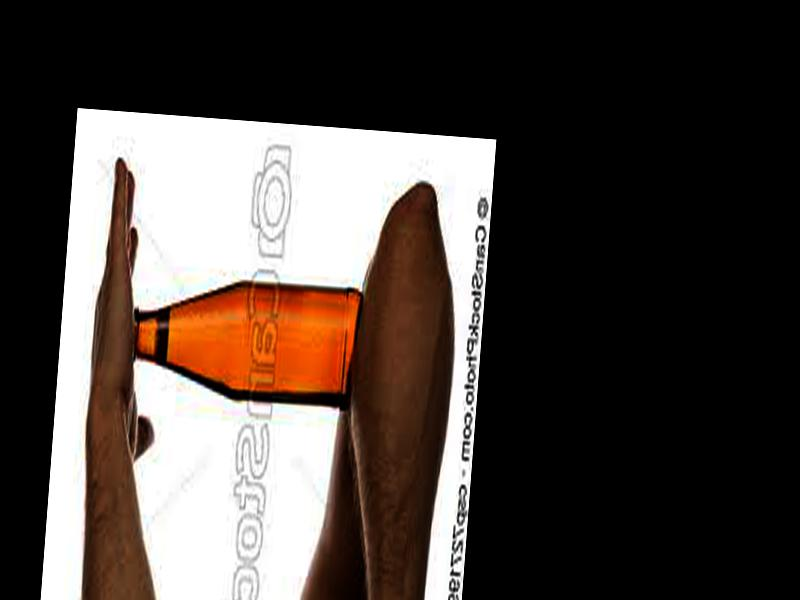Beer: (125, 269, 359, 414)
